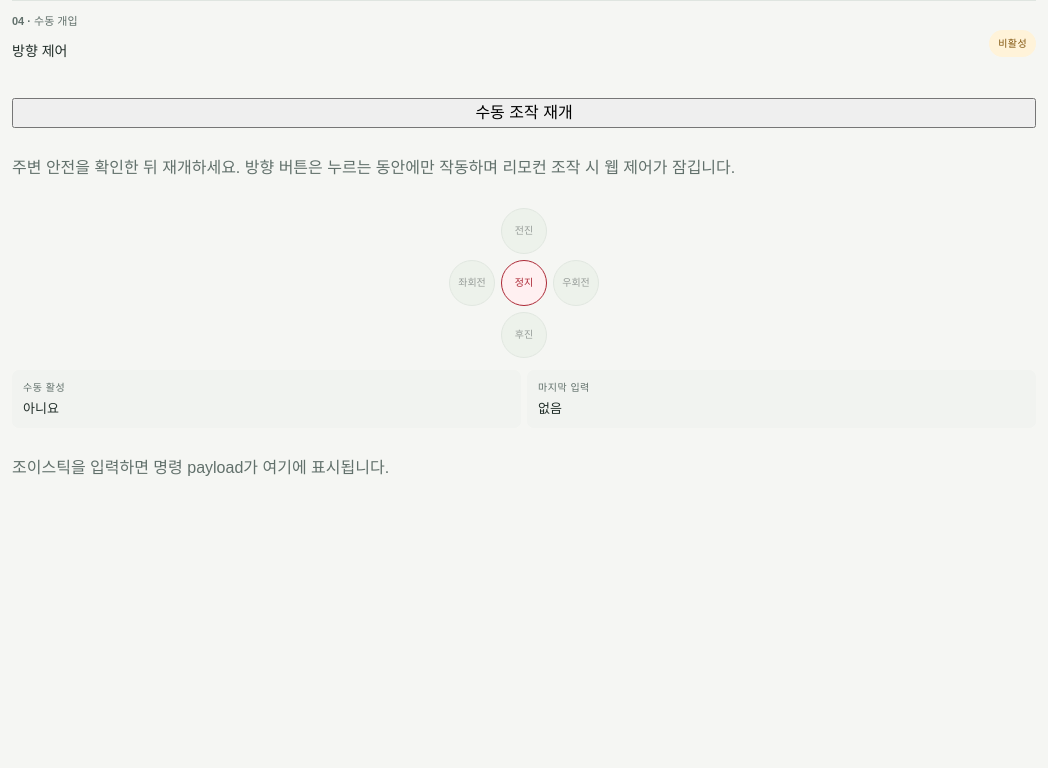
it: ManualJoystick 입력 수명 › 실패한 이동 전송은 반복을 멈추고 정지를 시도한다
The width and height of the screenshot is (1048, 768).
Click the button "수동 조작 재개" at (524, 113), box [12, 98, 1036, 128]
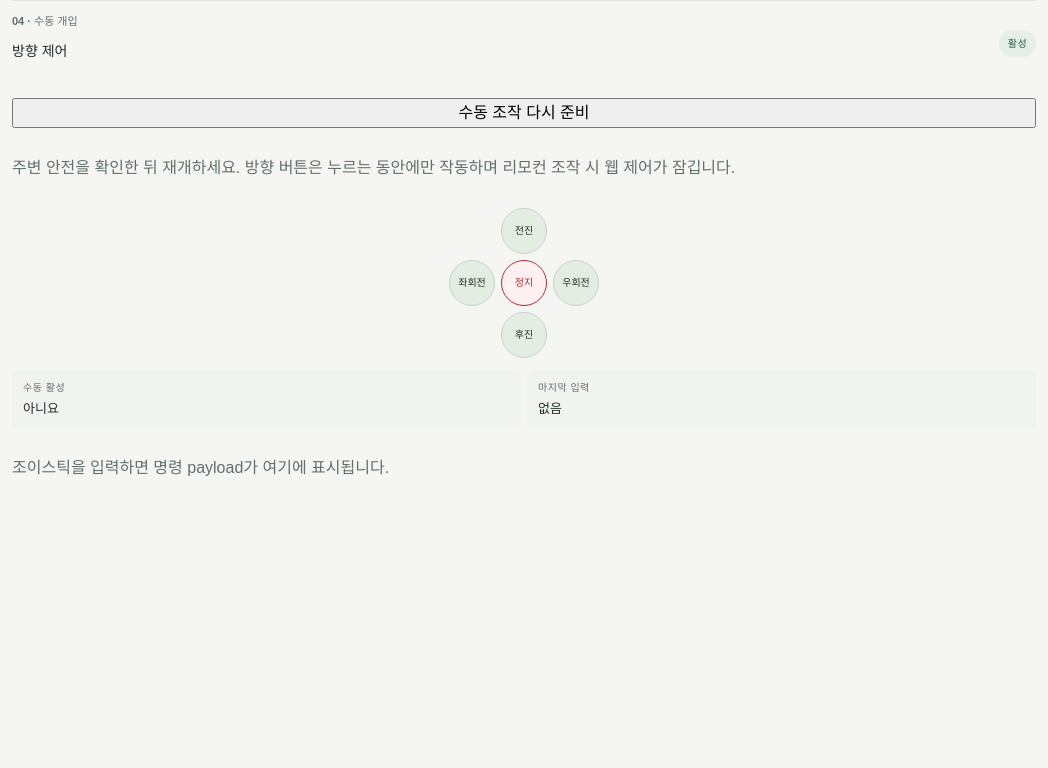
Press the mouse on the button with aria-label "수동 전진" at (524, 231), box [501, 208, 547, 254]
Wait 1000 ms
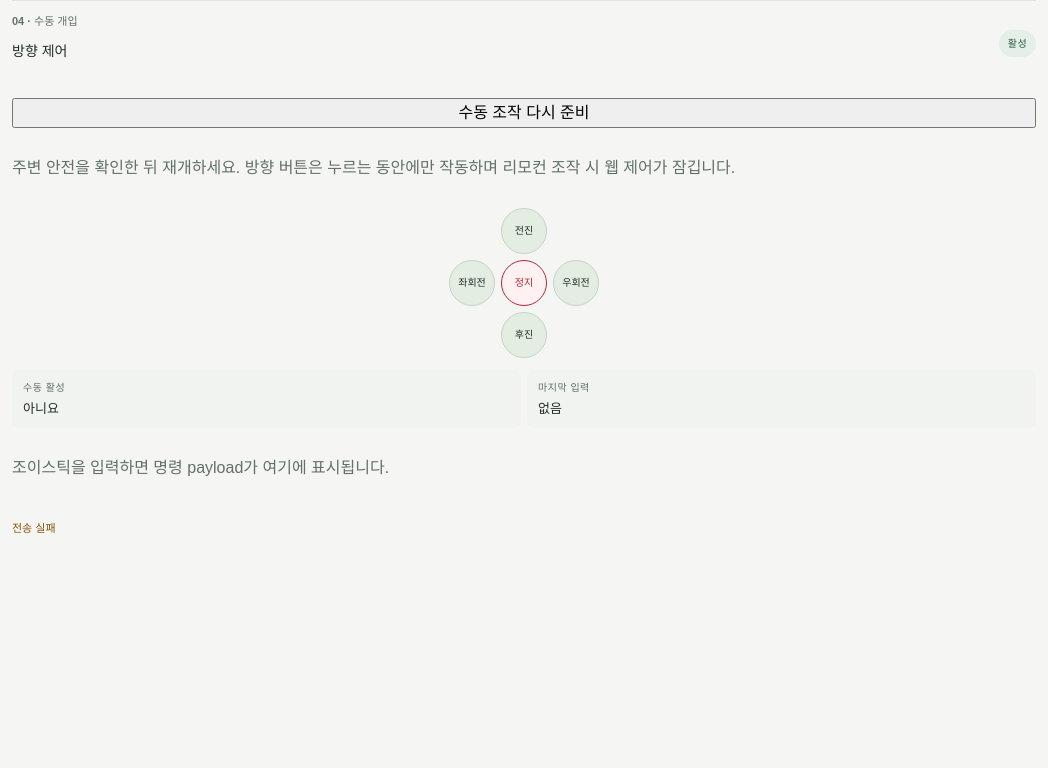
Now the text "전송 실패" is shown, box [12, 522, 56, 534]
